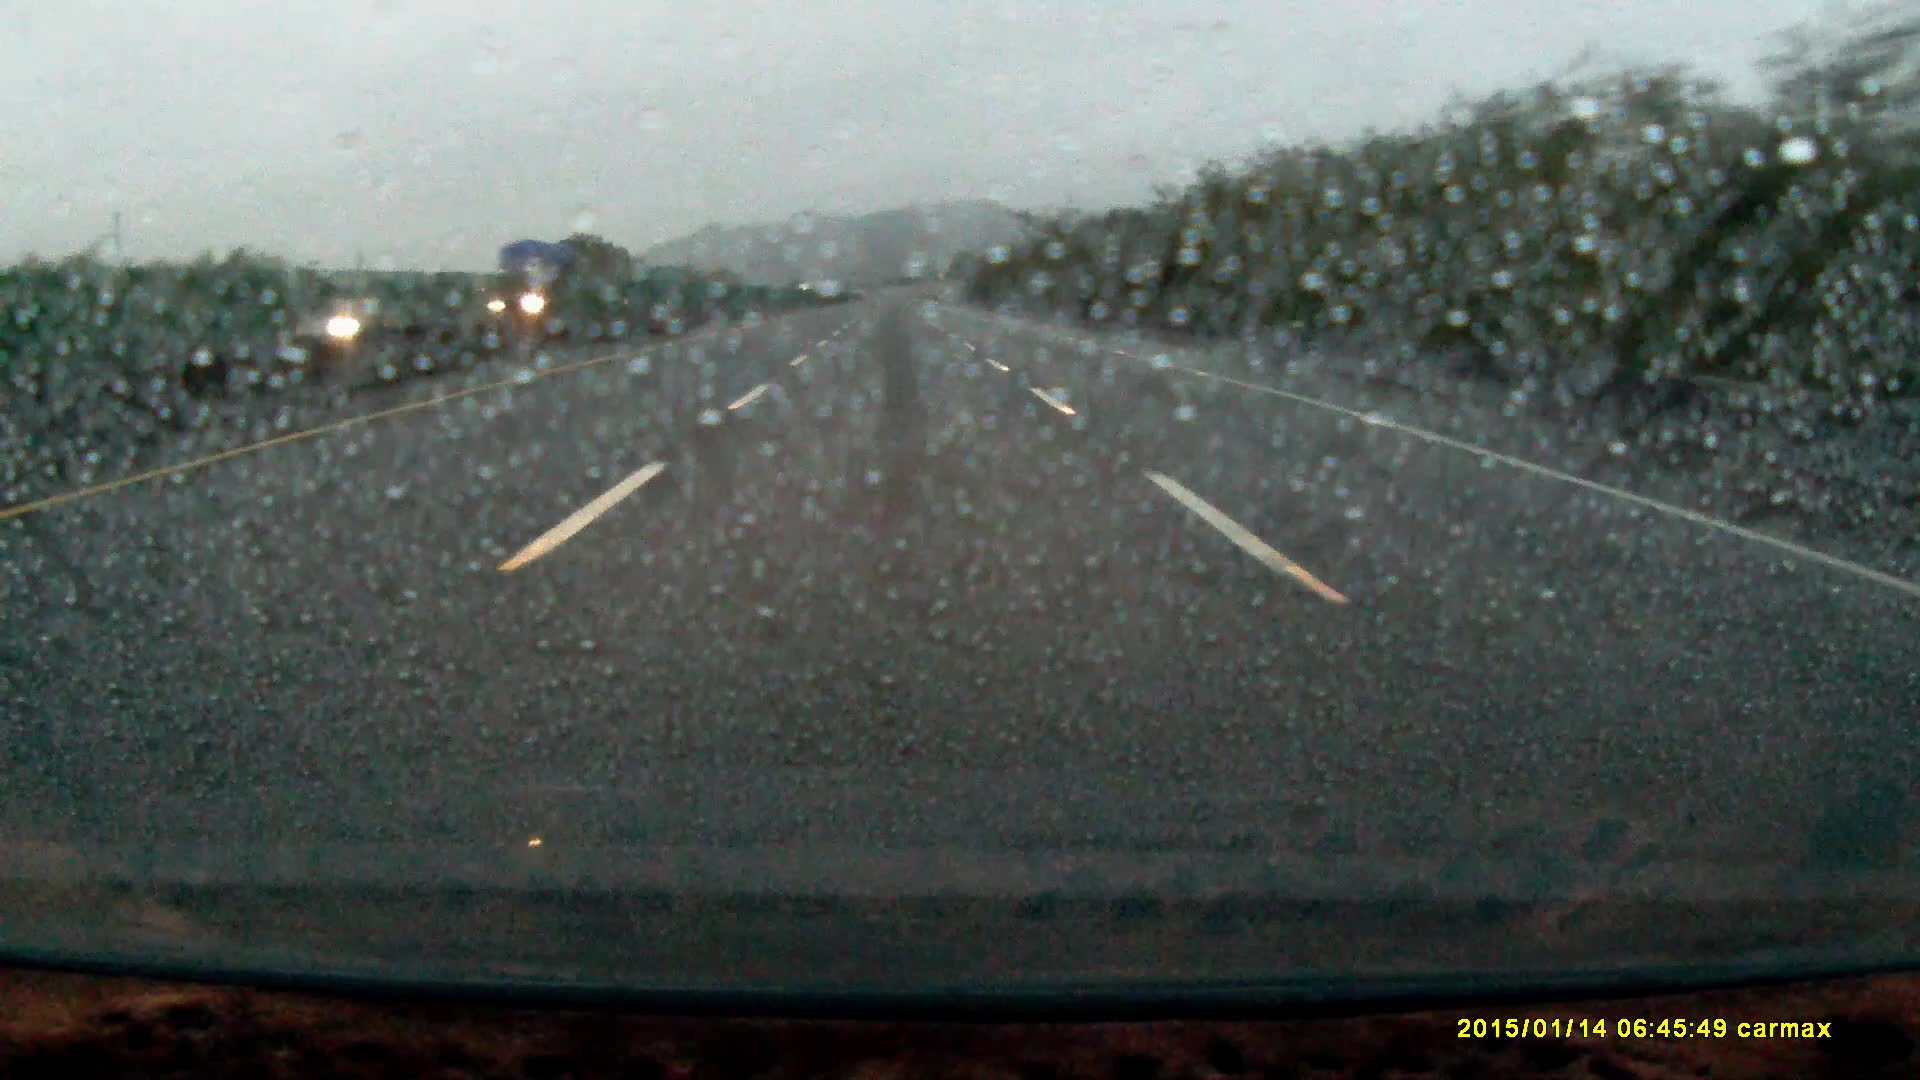vehicle: (491, 243, 607, 335), (294, 301, 401, 340)
